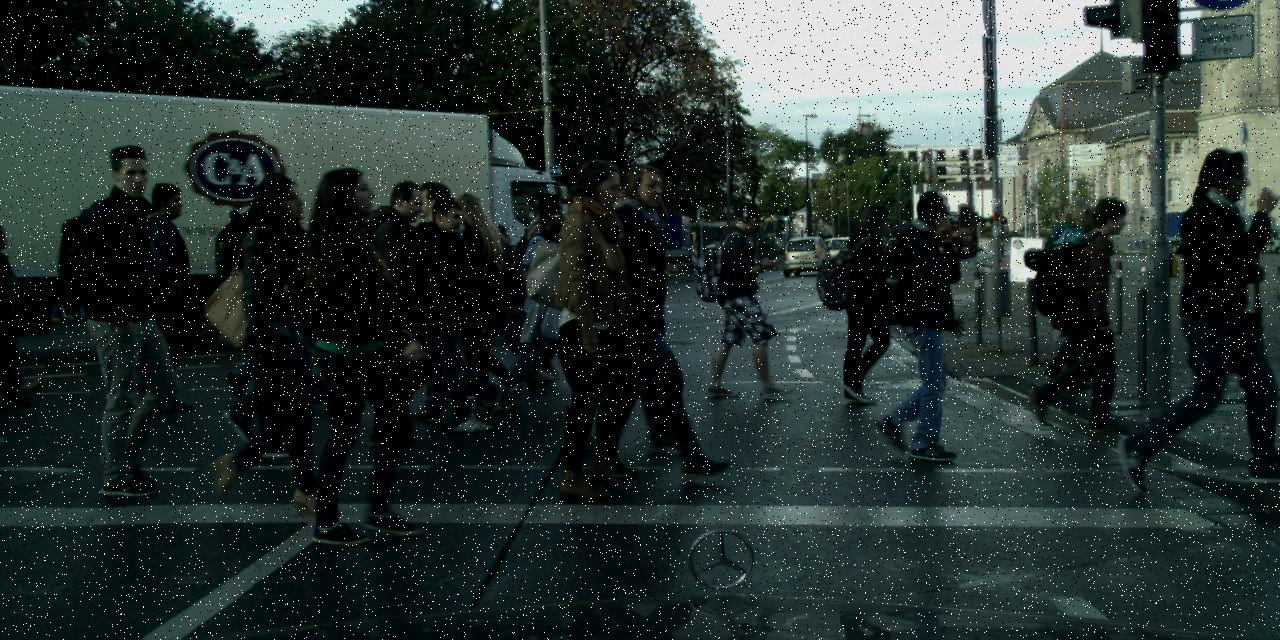ped: (277, 165, 428, 536), (56, 143, 198, 491), (528, 161, 664, 494), (207, 176, 342, 506), (1145, 148, 1279, 478), (586, 162, 714, 475), (566, 174, 680, 452), (209, 173, 322, 449), (346, 180, 454, 444), (866, 190, 973, 452), (534, 174, 632, 414), (398, 180, 494, 418), (388, 197, 481, 425), (227, 170, 320, 398), (1046, 195, 1139, 422), (114, 183, 204, 407), (436, 193, 525, 413), (825, 201, 906, 400), (708, 202, 788, 397), (1036, 199, 1111, 384), (509, 192, 582, 370), (417, 226, 487, 398), (510, 204, 580, 373), (464, 224, 531, 388), (40, 213, 82, 319), (65, 221, 105, 320)
